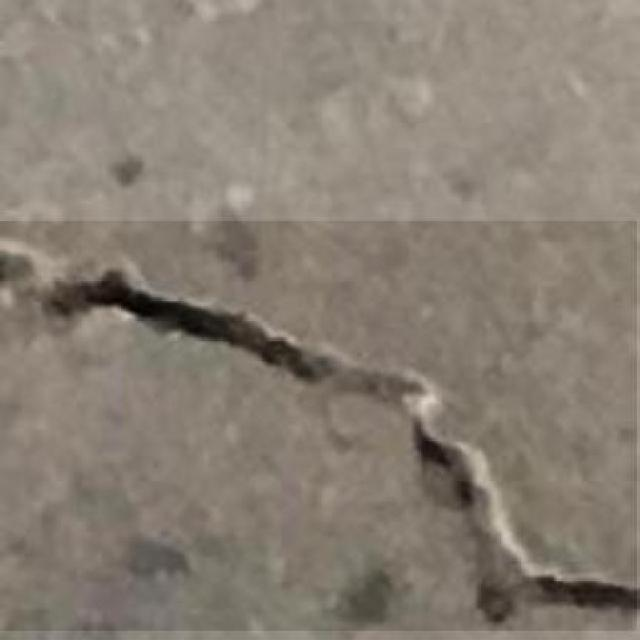Crack: (13, 228, 639, 628)
